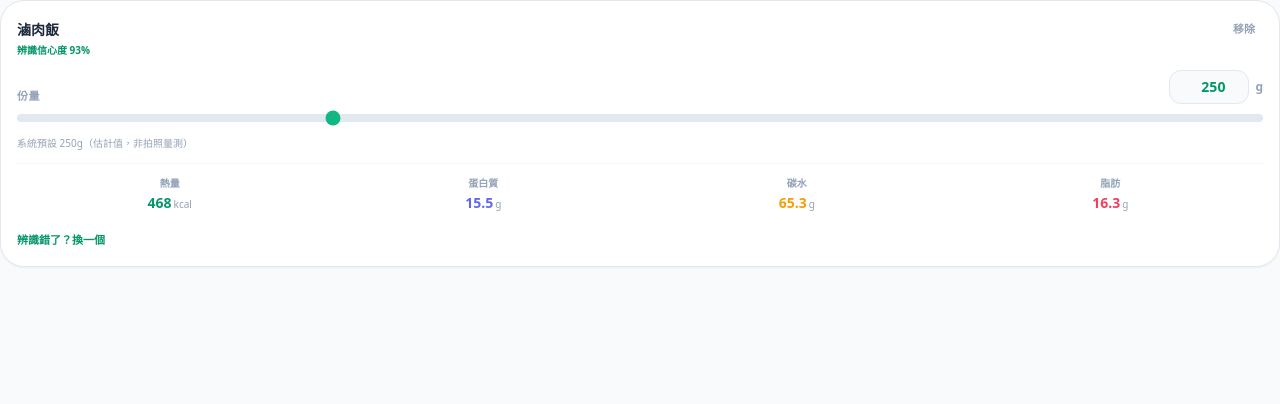
Test: RecognitionItemCard 即時互動 › 改選候選食物後以新食物的 per_100g 與預設份量重算（FR-035）
Click the button "辨識錯了？換一個".
click(61, 240)  # box [17,232,105,248]
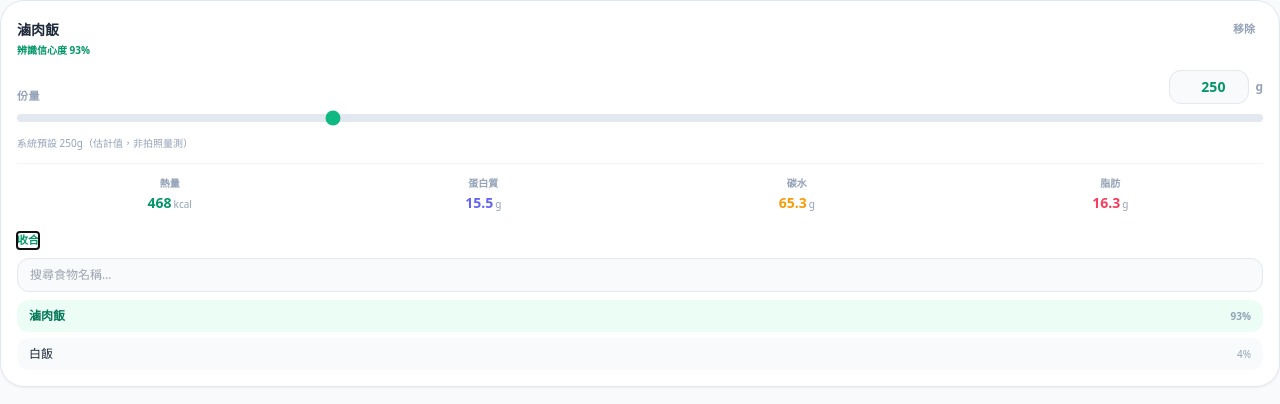
Click the button "白飯 4%".
click(41, 354)  # box [17,338,1263,370]
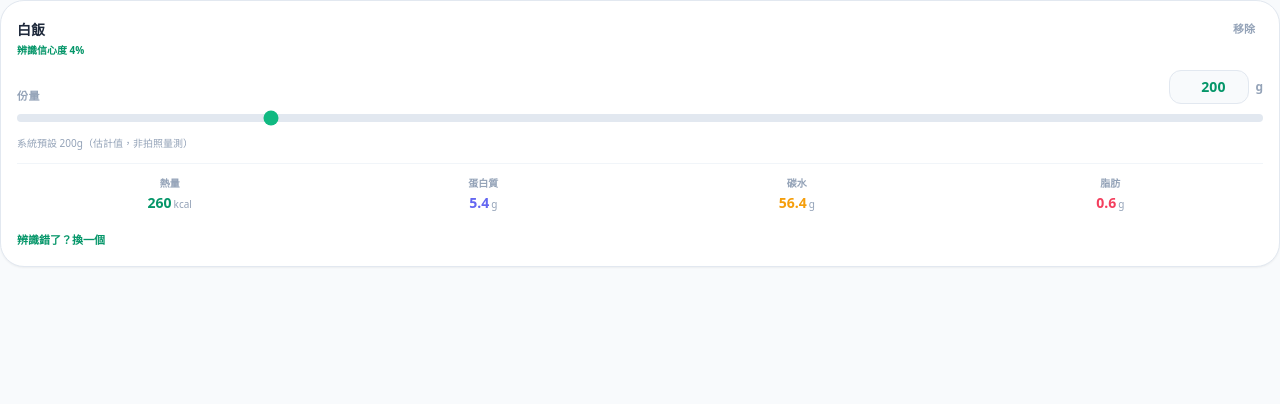
Now the text "260" is shown, box [148,193,172,212]
Now the number field named "白飯份量（公克）" holds "200", box [1169,70,1249,104]
